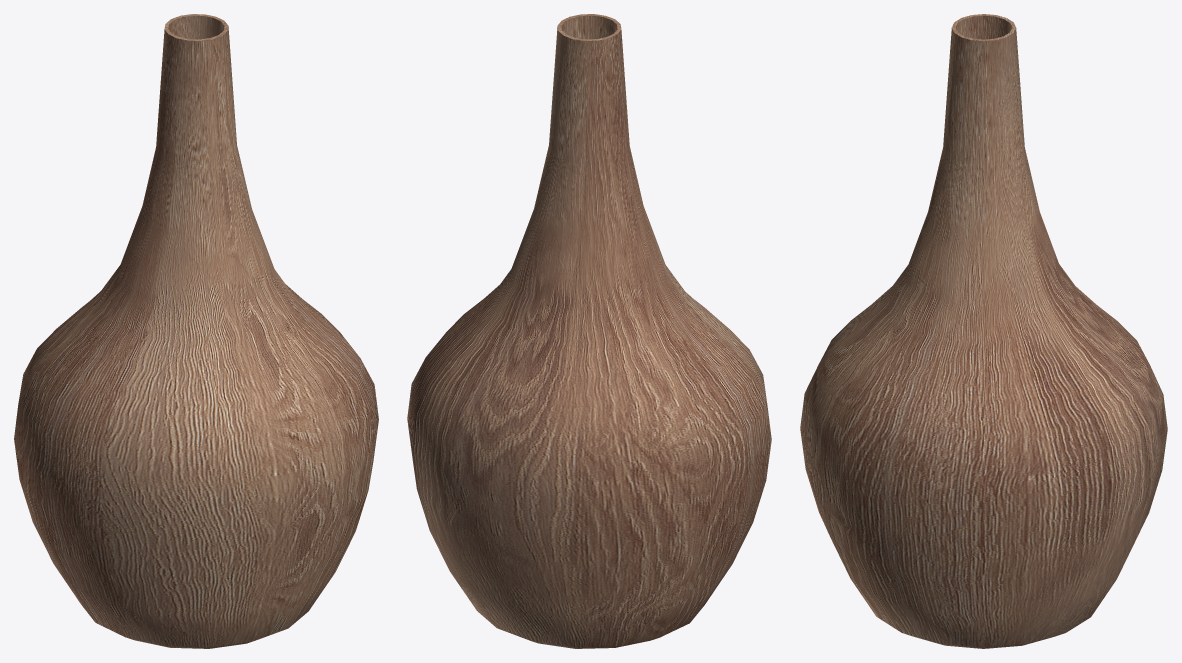
Rendered from Vase 1.FBX.
3 renders of one model, left to right at view 1: azimuth 30°, elevation 25°; view 2: azimuth 150°, elevation 25°; view 3: azimuth 270°, elevation 25°, orthographic.
Visible parts, largest first — view 1: Vase 1; view 2: Vase 1; view 3: Vase 1.
Part boxes in pixels (x1,y1,x2,y2): Vase 1: (14, 14, 378, 648); Vase 1: (407, 14, 771, 648); Vase 1: (800, 14, 1167, 648).
Size of the model in its own units: 20.06 by 34.85 by 20.06.
Materials: 1 (1 with a texture image).
